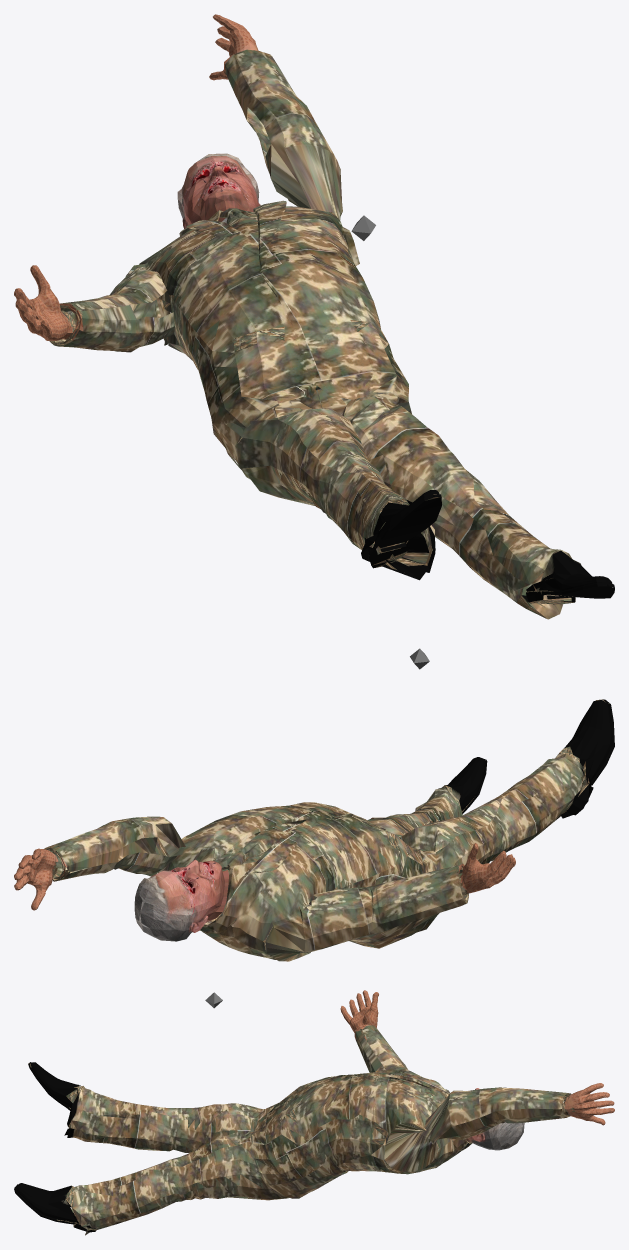
Rendered from zombie_000074.obj.
3 renders of one model, top to bottom at view 1: azimuth 30°, elevation 25°; view 2: azimuth 150°, elevation 25°; view 3: azimuth 270°, elevation 25°, orthographic. The views are drawn at different scales.
Visible parts, largest first — view 1: Suit_coat_orig_9___De, objGeo_Hea_orig_9___D; view 2: Suit_coat_orig_9___De, objGeo_Hea_orig_9___D; view 3: Suit_coat_orig_9___De, objGeo_Hea_orig_9___D.
Boxes of the visible parts, x1,y1,x2,y2 form: Suit_coat_orig_9___De: [14, 14, 614, 619]; objGeo_Hea_orig_9___D: [177, 153, 260, 239]; Suit_coat_orig_9___De: [14, 699, 614, 961]; objGeo_Hea_orig_9___D: [134, 859, 228, 941]; Suit_coat_orig_9___De: [14, 990, 614, 1235]; objGeo_Hea_orig_9___D: [466, 1088, 524, 1150].
Bounding box in the file's own units: 1.2 × 0.9512 × 2.38.
